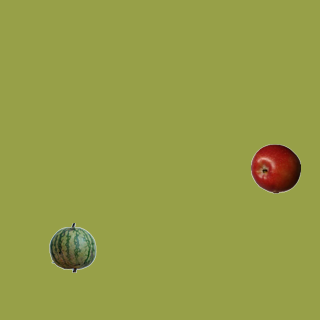Apple Braeburn: (250, 143, 300, 193)
Watermelon: (47, 222, 97, 272)
